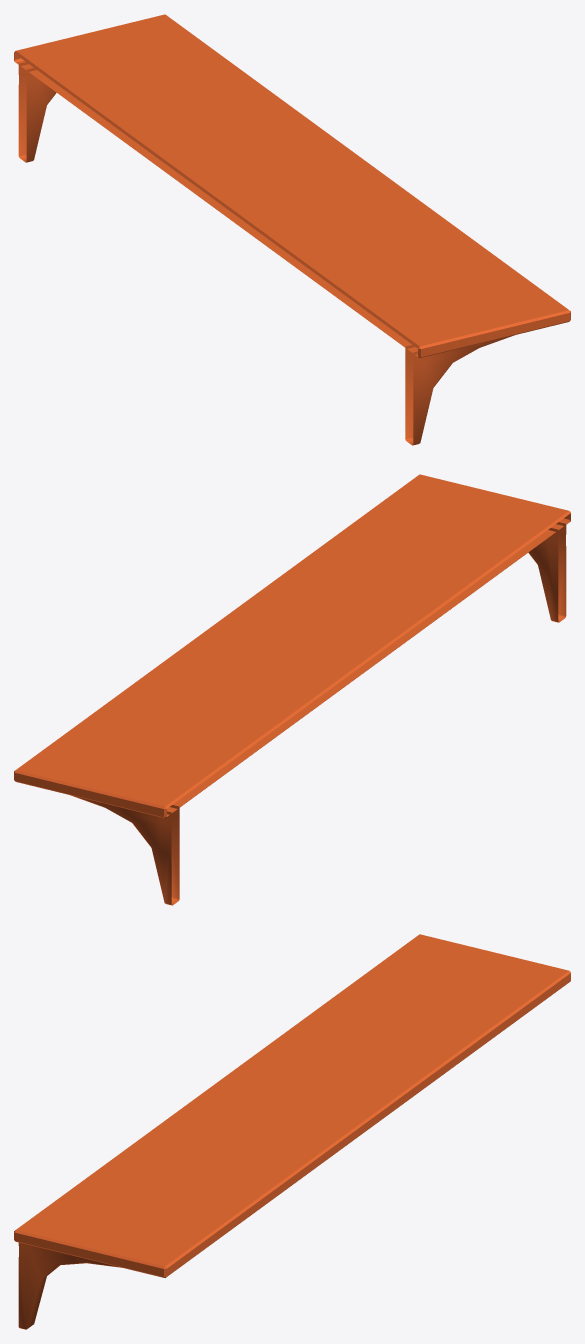
File: G_Shelf_02.fbx
3 renders of one model, top to bottom at view 1: azimuth 30°, elevation 25°; view 2: azimuth 150°, elevation 25°; view 3: azimuth 330°, elevation 25°, orthographic.
Visible parts, largest first — view 1: shelf.001; view 2: shelf.001; view 3: shelf.001.
Part boxes in pixels (x1,y1,x2,y2): shelf.001: (14, 14, 570, 445); shelf.001: (14, 474, 570, 905); shelf.001: (14, 934, 570, 1329).
Bounding box in the file's own units: 349 × 224 × 1606.
